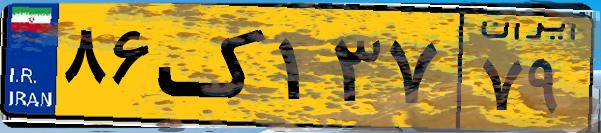1: (270, 28, 330, 110)
3: (330, 28, 385, 110)
6: (110, 28, 158, 98)
7: (385, 28, 445, 110), (475, 38, 525, 113)
8: (57, 26, 110, 100)
9: (525, 38, 570, 115)
ک: (158, 12, 270, 120)
